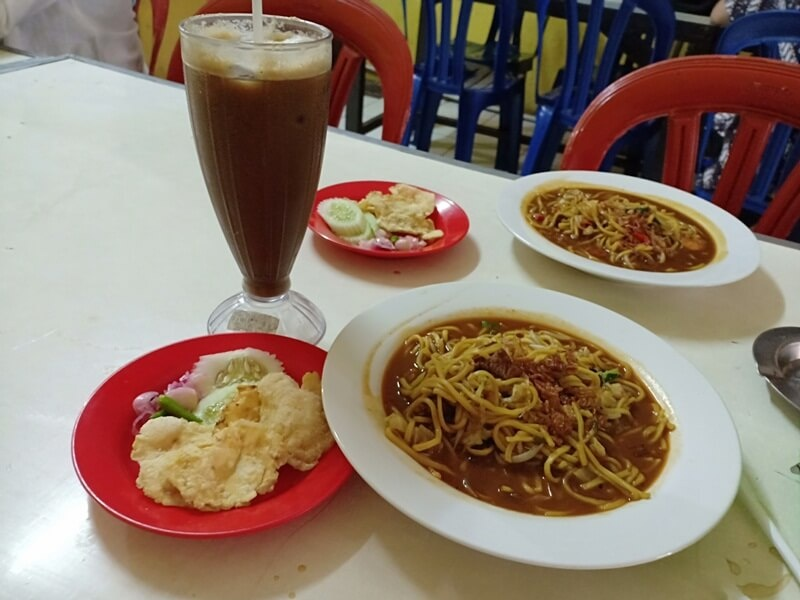mie_aceh: (380, 314, 671, 515), (528, 179, 718, 272)
